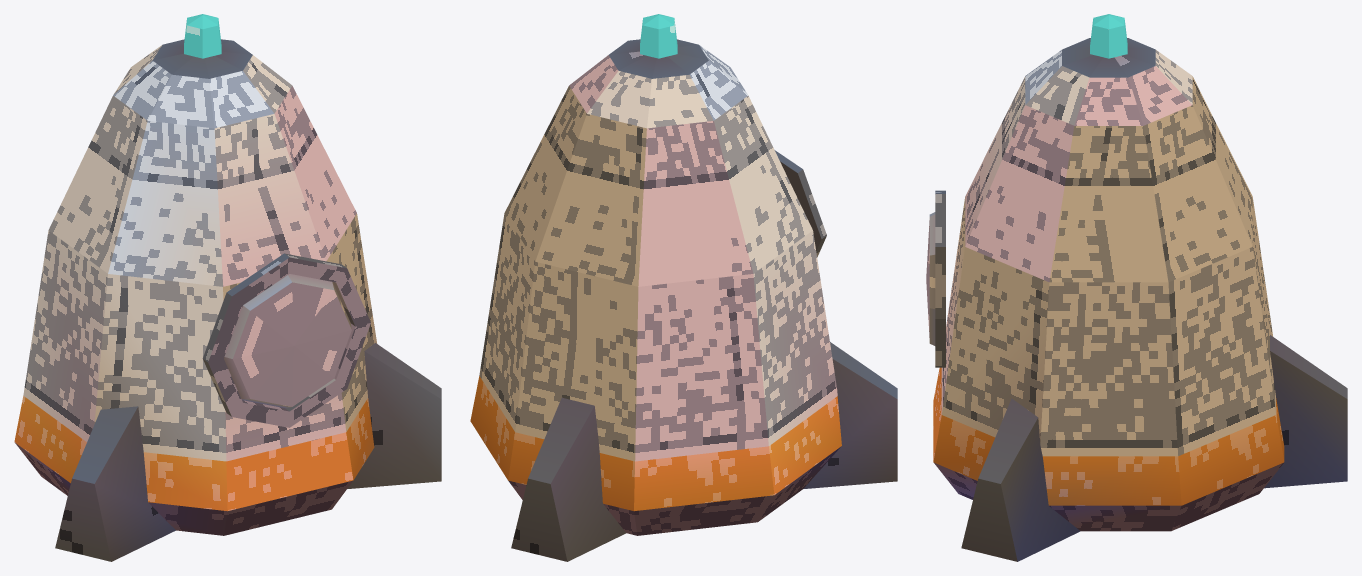
File: ship.escape_pod.glb
The picture shows the model from 3 angles, left to right: view 1: azimuth 30°, elevation 25°; view 2: azimuth 150°, elevation 25°; view 3: azimuth 270°, elevation 25°; orthographic projection.
Visible parts, largest first — view 1: kit_body, kit_fins, kit_hatch, kit_hatch_ring, kit_beacon; view 2: kit_body, kit_fins, kit_beacon, kit_hatch_ring; view 3: kit_body, kit_fins, kit_hatch_ring, kit_beacon, kit_hatch.
Boxes of the visible parts, x1,y1,x2,y2 form: kit_body: [14, 39, 377, 535]; kit_fins: [55, 343, 441, 561]; kit_hatch: [224, 274, 351, 408]; kit_hatch_ring: [202, 253, 370, 427]; kit_beacon: [184, 14, 221, 58]; kit_body: [470, 39, 841, 535]; kit_fins: [511, 342, 897, 561]; kit_beacon: [640, 14, 677, 58]; kit_hatch_ring: [774, 150, 826, 257]; kit_body: [933, 38, 1284, 531]; kit_fins: [961, 335, 1347, 561]; kit_hatch_ring: [935, 190, 945, 367]; kit_beacon: [1090, 14, 1127, 58]; kit_hatch: [926, 212, 935, 345].
Bounding box in the file's own units: 2.47 × 2.76 × 2.33.
7 materials, 7 textured.
